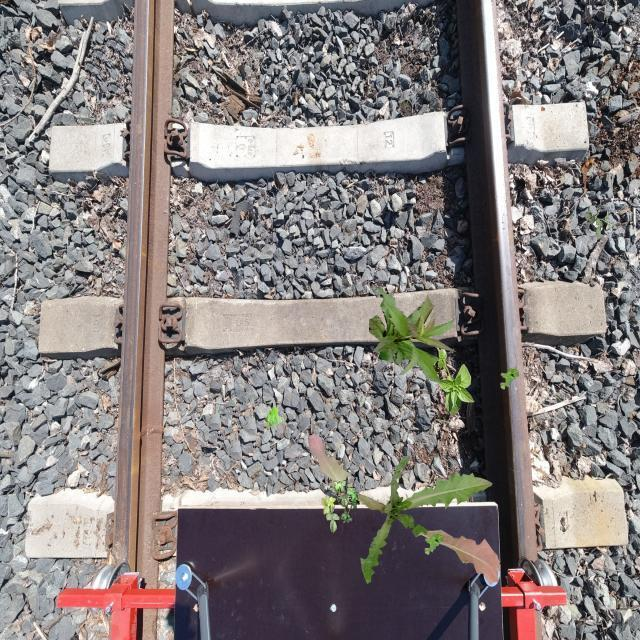Plant: (308, 434, 500, 586), (369, 286, 458, 384), (427, 346, 475, 417), (321, 478, 358, 533), (585, 207, 612, 238), (265, 406, 286, 431), (500, 365, 520, 390), (424, 531, 444, 556)
